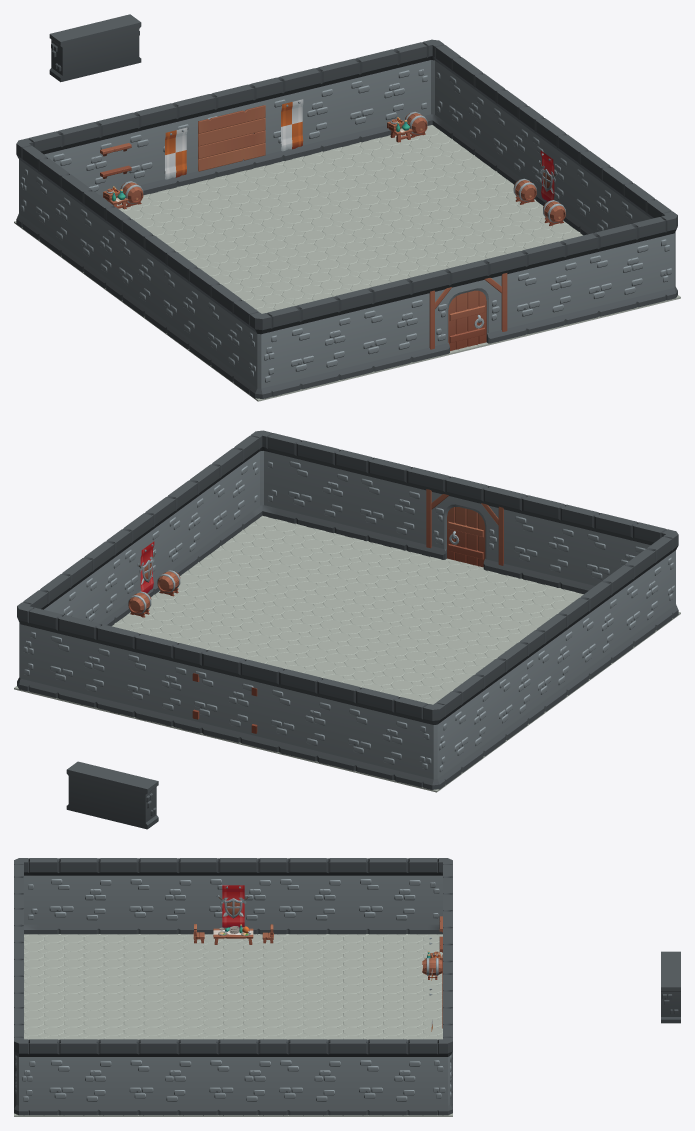
The model's file is dungeonroom_heapsort.glb.
3 renders of one model, top to bottom at view 1: azimuth 30°, elevation 25°; view 2: azimuth 150°, elevation 25°; view 3: azimuth 270°, elevation 25°, orthographic. The views are drawn at different scales.
Visible parts, largest first — view 1: wall.008, wall.007, wall.006, wall.009, wall.001, wall.004, wall.003, wall_doorway_scaffold.001, wall.017, wall.014, wall.015, wall.010 (+72 smaller); view 2: wall.003, wall.001, wall.002, wall.004, wall.007, wall.009, wall.006, wall.005, wall_doorway_scaffold.001, wall.008, wall.015, wall.014 (+68 smaller); view 3: wall.013, wall.018, wall.031, wall.010, wall.015, wall.014, wall.011, wall.016, wall.012, wall.017, wall_corner.001, wall_corner.003 (+69 smaller).
Part boxes in pixels (<box>): wall.008: <box>276,292,358,394</box>; wall.007: <box>502,236,584,338</box>; wall.006: <box>575,219,656,321</box>; wall.009: <box>349,274,430,376</box>; wall.001: <box>336,44,417,146</box>; wall.004: <box>259,63,341,165</box>; wall.003: <box>115,98,196,195</box>; wall_doorway_scaffold.001: <box>426,255,507,357</box>; wall.017: <box>110,210,164,325</box>; wall.014: <box>199,275,253,390</box>; wall.015: <box>27,149,80,264</box>; wall.010: <box>440,48,494,162</box>; wall.003: <box>259,664,341,766</box>; wall.001: <box>38,610,120,712</box>; wall.002: <box>336,682,418,784</box>; wall.004: <box>115,628,196,731</box>; wall.007: <box>348,452,430,555</box>; wall.009: <box>502,490,583,592</box>; wall.006: <box>277,435,357,536</box>; wall.005: <box>182,646,264,747</box>; wall_doorway_scaffold.001: <box>425,471,507,574</box>; wall.008: <box>575,508,656,593</box>; wall.015: <box>442,666,495,780</box>; wall.014: <box>613,540,667,655</box>; wall.013: <box>118,1039,198,1115</box>; wall.018: <box>118,858,198,934</box>; wall.031: <box>39,1039,118,1115</box>; wall.010: <box>348,1039,427,1115</box>; wall.015: <box>348,858,427,934</box>; wall.014: <box>39,858,118,934</box>; wall.011: <box>268,1039,347,1115</box>; wall.016: <box>268,858,347,934</box>; wall.012: <box>198,1039,277,1115</box>; wall.017: <box>198,858,277,934</box>; wall_corner.001: <box>428,1033,452,1115</box>; wall_corner.003: <box>14,1033,38,1115</box>.
Bounding box in the file's own units: 44.03 × 8.1 × 66.87.
Materials: 13 (12 with a texture image).
